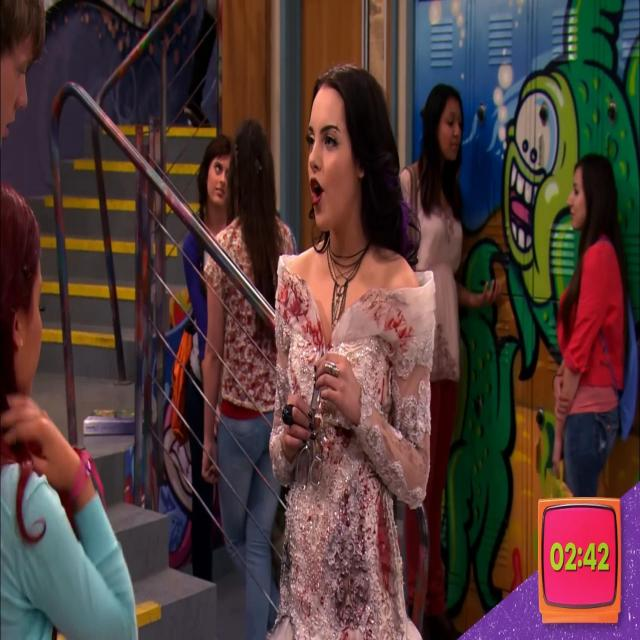scissor: (298, 379, 322, 492)
